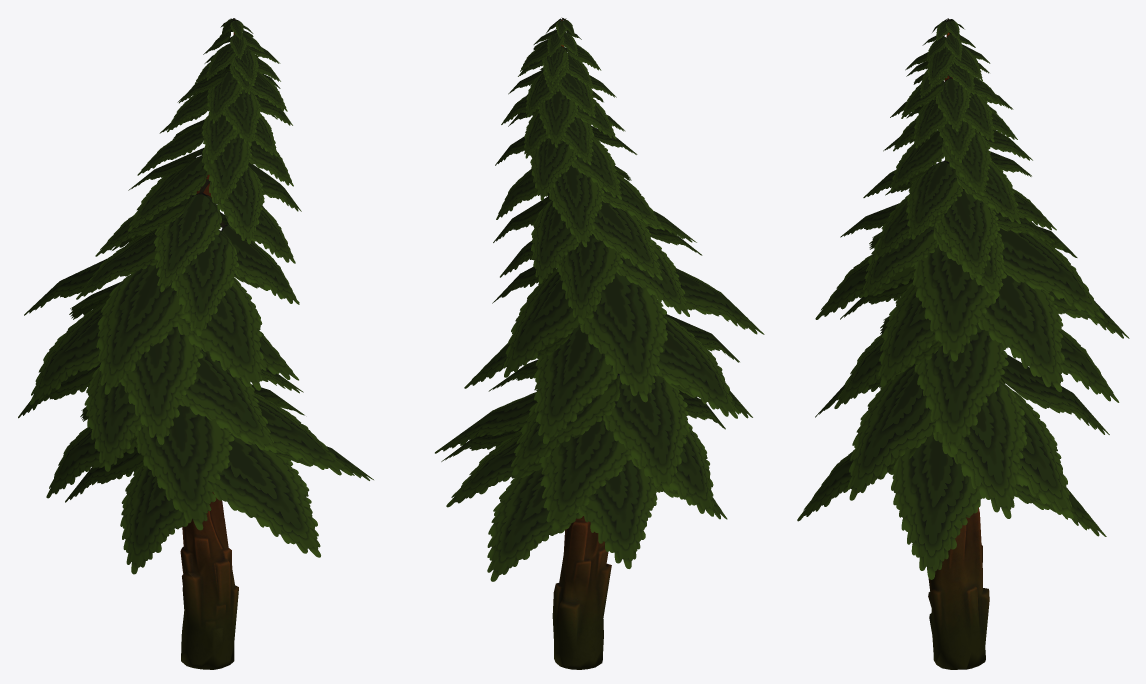
File: tree2.fbx
3 views of the same model, side by side, from view 1: azimuth 30°, elevation 25°; view 2: azimuth 150°, elevation 25°; view 3: azimuth 270°, elevation 25° (orthographic). The views are drawn at different scales.
Parts seen in each view (by area): view 1: Fantesy tree.001, tree3.low.001; view 2: Fantesy tree.001, tree3.low.001; view 3: Fantesy tree.001, tree3.low.001.
Part boxes in pixels (x1,y1,x2,y2): Fantesy tree.001: (18, 18, 373, 574); tree3.low.001: (180, 32, 238, 669); Fantesy tree.001: (435, 17, 764, 581); tree3.low.001: (552, 20, 611, 669); Fantesy tree.001: (797, 18, 1129, 579); tree3.low.001: (928, 32, 989, 669).
Bounding box in the file's own units: 414 × 780 × 365.
2 materials, 2 textured.
